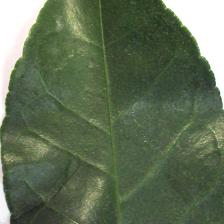healthy: (0, 1, 224, 224)
